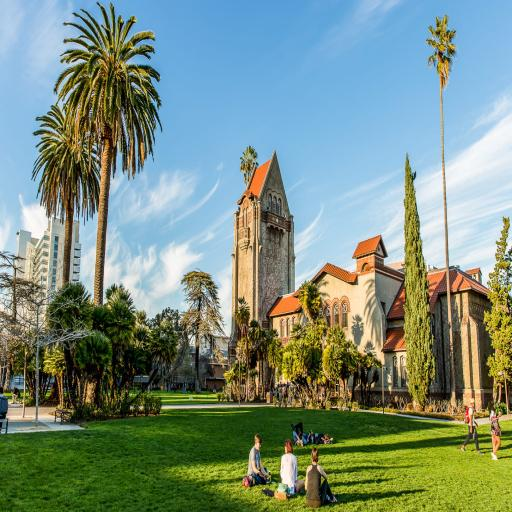building_Detection: (232, 152, 294, 323), (18, 217, 64, 290)
person_Detection: (305, 448, 336, 506), (249, 434, 269, 485), (281, 455, 304, 491)
tree_Detection: (55, 4, 161, 304), (426, 15, 457, 404), (33, 105, 99, 284), (404, 155, 435, 406), (182, 271, 223, 359), (408, 265, 435, 384)
